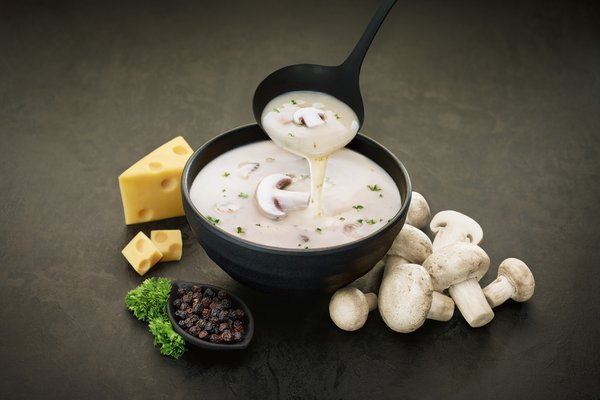curry: (124, 275, 189, 359)
sushi: (180, 116, 414, 296), (167, 279, 255, 352)
